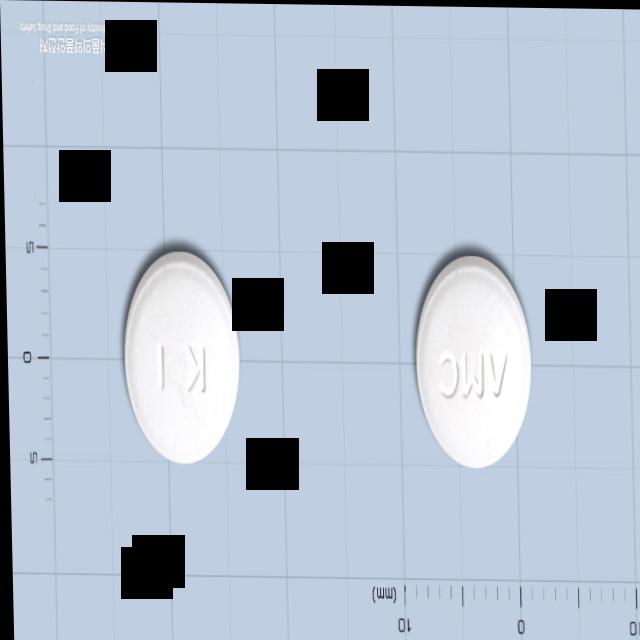Amocla 375mg: (118, 247, 241, 466), (412, 252, 532, 468)
